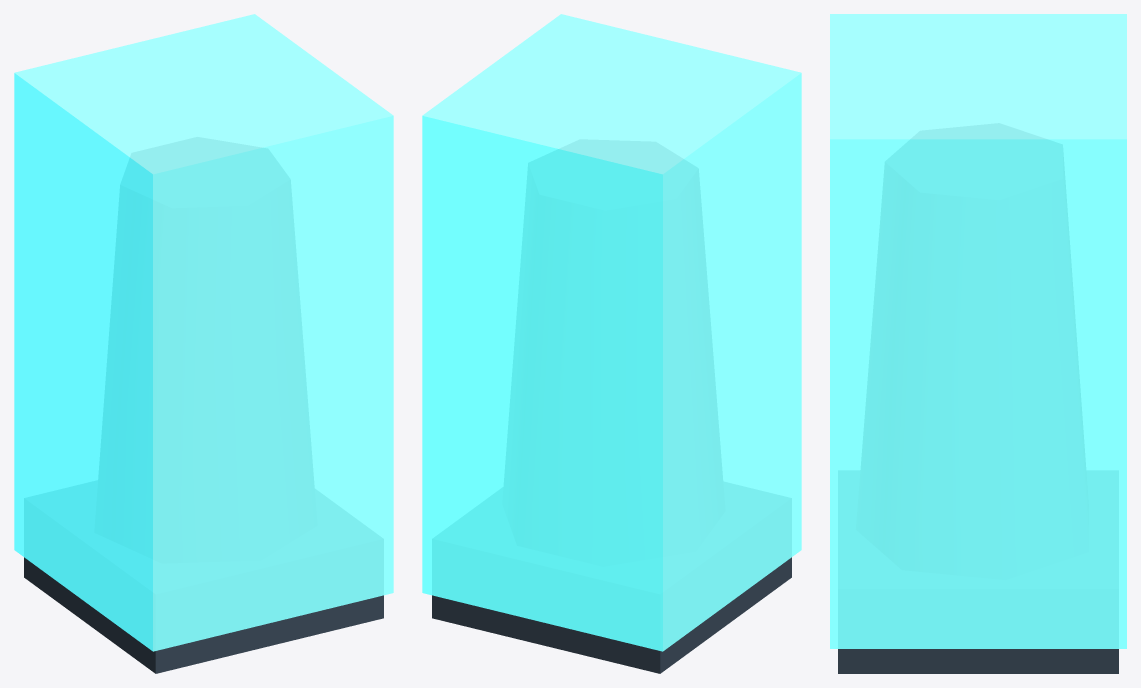
Rendered from frozen_statue.glb.
3 renders of one model, left to right at view 1: azimuth 30°, elevation 25°; view 2: azimuth 150°, elevation 25°; view 3: azimuth 270°, elevation 25°, orthographic. The views are drawn at different scales.
Size of the model in its own units: 0.95 by 1.9 by 0.95.
